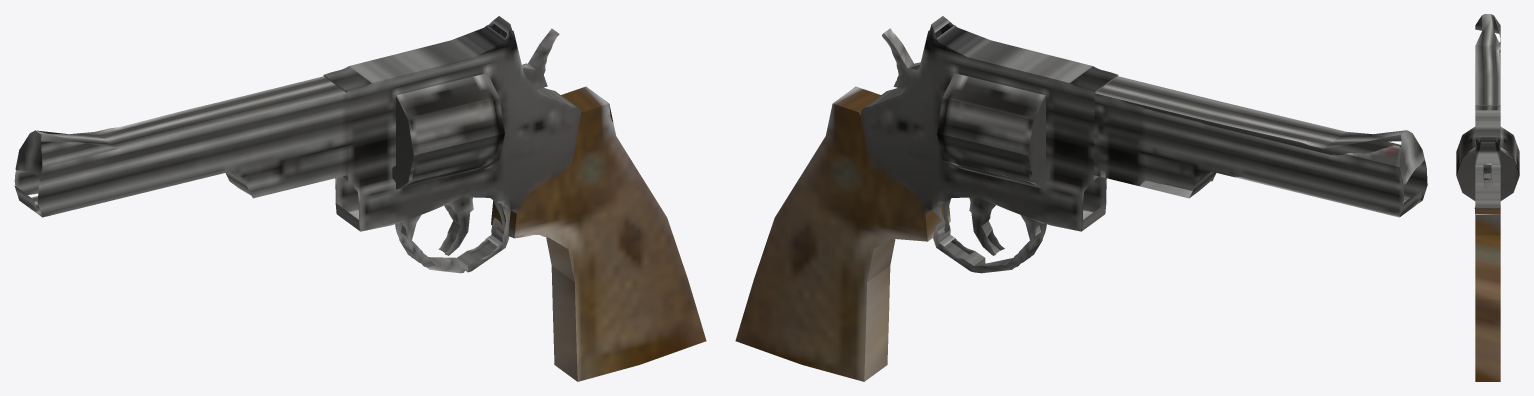
File: revolver.fbx
3 views of the same model, side by side, from view 1: azimuth 30°, elevation 25°; view 2: azimuth 150°, elevation 25°; view 3: azimuth 270°, elevation 25° (orthographic). The views are drawn at different scales.
Parts seen in each view (by area): view 1: Cube.004, Cube.009, Cube.011, Cylinder.001, Cylinder.002, Cube.008, Cube.007; view 2: Cube.004, Cube.009, Cube.011, Cylinder.001, Cylinder.002, Cube.008, Cube.007; view 3: Cube.004, Cube.009, Cube.011, Cylinder.002, Cylinder.001, Cube.007.
Boxes of the visible parts, x1,y1,x2,y2 form: Cube.004: (491,86,706,381); Cube.009: (323,16,581,273); Cube.011: (14,76,348,217); Cylinder.001: (396,73,505,189); Cylinder.002: (392,95,413,189); Cube.008: (438,197,473,255); Cube.007: (522,28,559,89); Cube.004: (735,86,950,381); Cube.009: (860,16,1118,273); Cube.011: (1093,76,1427,217); Cylinder.001: (936,73,1045,189); Cylinder.002: (1028,95,1049,189); Cube.008: (969,197,1004,255); Cube.007: (882,28,920,89); Cube.004: (1475,209,1500,381); Cube.009: (1474,105,1500,213); Cube.011: (1475,14,1500,110); Cylinder.002: (1456,151,1519,200); Cylinder.001: (1456,127,1519,174); Cube.007: (1482,163,1492,188).
Size of the model in its own units: 488 by 258 by 74.12.
